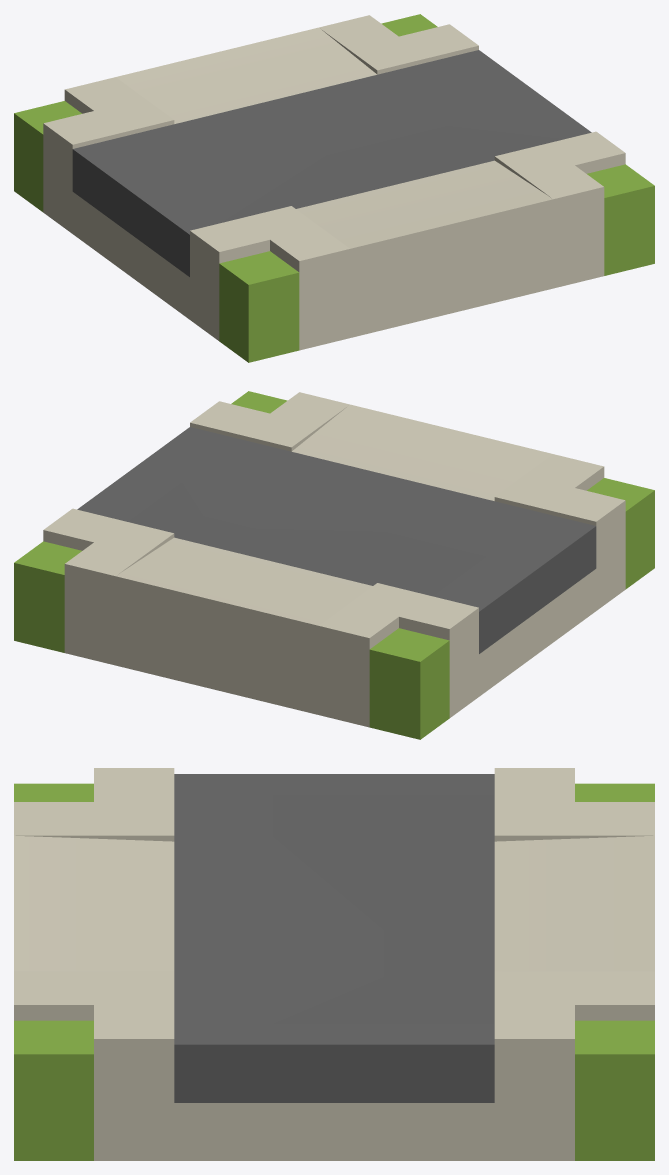
Rendered from roadTile_142.fbx.
3 renders of one model, top to bottom at view 1: azimuth 30°, elevation 25°; view 2: azimuth 150°, elevation 25°; view 3: azimuth 270°, elevation 25°, orthographic. The views are drawn at different scales.
Parts seen in each view (by area): view 1: roadTile_142; view 2: roadTile_142; view 3: roadTile_142.
Part boxes in pixels (box(x1,y1,x2,y2)): roadTile_142: box(14, 14, 654, 362); roadTile_142: box(14, 391, 654, 739); roadTile_142: box(14, 768, 654, 1160).
Bounding box in the file's own units: 118 × 24.8 × 118.
